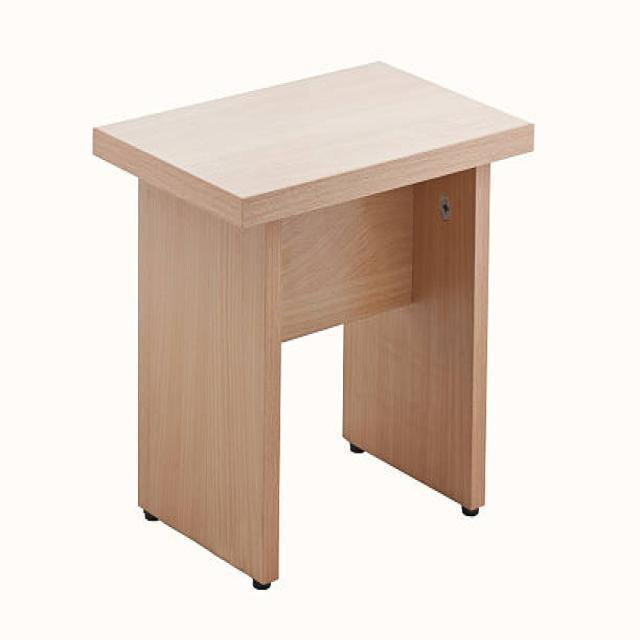table: (90, 58, 534, 590)
